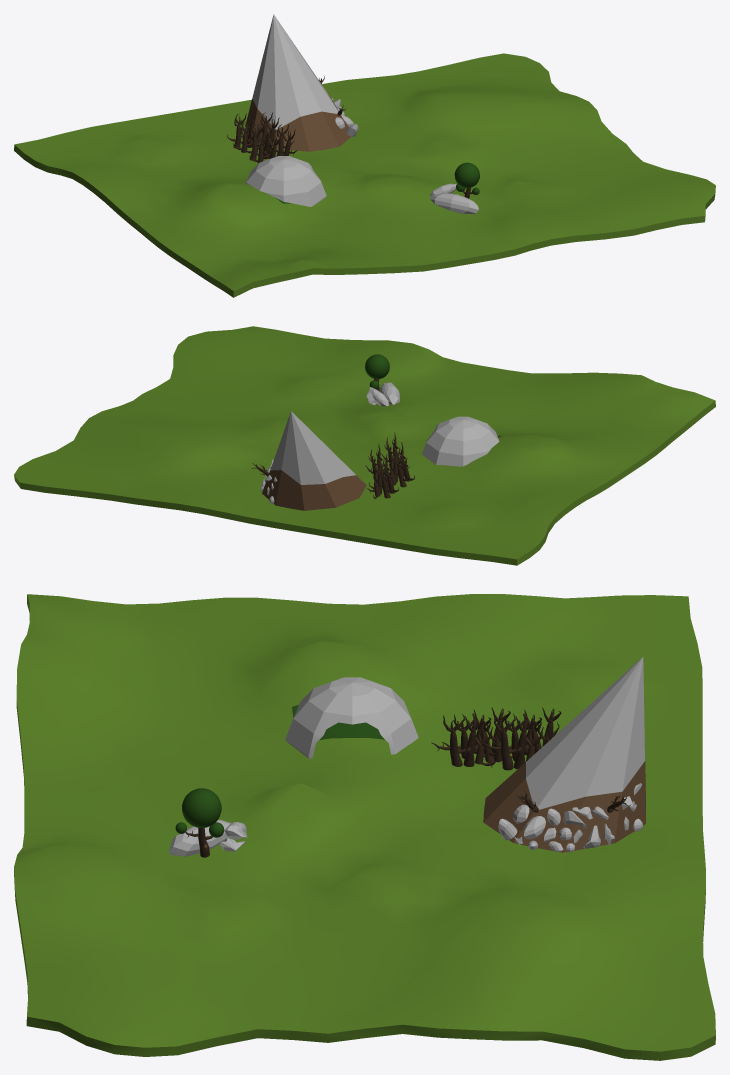
File: Underground.fbx
The picture shows the model from 3 angles, top to bottom: view 1: azimuth 30°, elevation 25°; view 2: azimuth 150°, elevation 25°; view 3: azimuth 270°, elevation 25°; orthographic projection. The views are drawn at different scales.
Visible parts, largest first — view 1: pCube114, pCone9, pSphere94, pSphere86, pSphere89; view 2: pCube114, pCone9, pSphere94, pSphere89; view 3: pCube114, pCone9, pSphere94, pSphere89, pSphere86.
Boxes of the visible parts, left/top/right/bottom form: pCube114: left=14, top=53, right=715, bottom=297; pCone9: left=245, top=14, right=350, bottom=151; pSphere94: left=245, top=156, right=326, bottom=206; pSphere86: left=430, top=193, right=478, bottom=213; pSphere89: left=454, top=162, right=479, bottom=187; pCube114: left=14, top=326, right=715, bottom=565; pCone9: left=262, top=411, right=366, bottom=510; pSphere94: left=422, top=416, right=499, bottom=466; pSphere89: left=365, top=354, right=389, bottom=379; pCube114: left=14, top=594, right=715, bottom=1060; pCone9: left=483, top=657, right=645, bottom=852; pSphere94: left=285, top=677, right=418, bottom=758; pSphere89: left=182, top=788, right=221, bottom=827; pSphere86: left=169, top=819, right=230, bottom=856.
Bounding box in the file's own units: 101 × 25.38 × 75.03.
